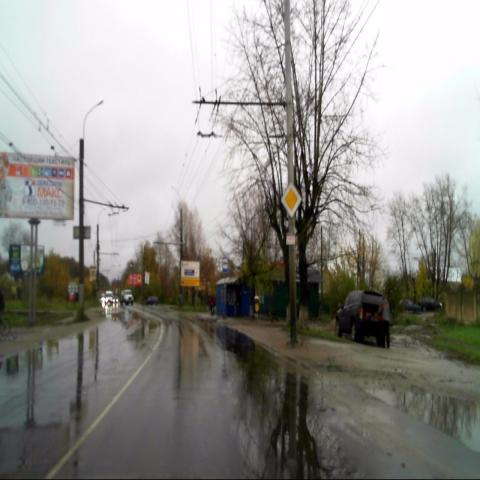2_1: (281, 181, 302, 218)
5_16: (222, 255, 228, 271)
